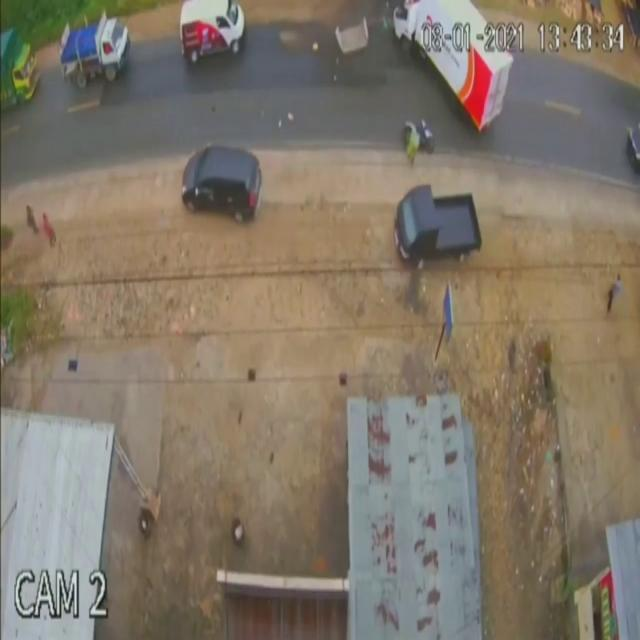multiple_accident: (330, 0, 573, 148), (375, 97, 453, 180)
normal: (135, 128, 298, 238), (0, 0, 137, 117), (373, 178, 498, 280), (153, 0, 272, 77)
